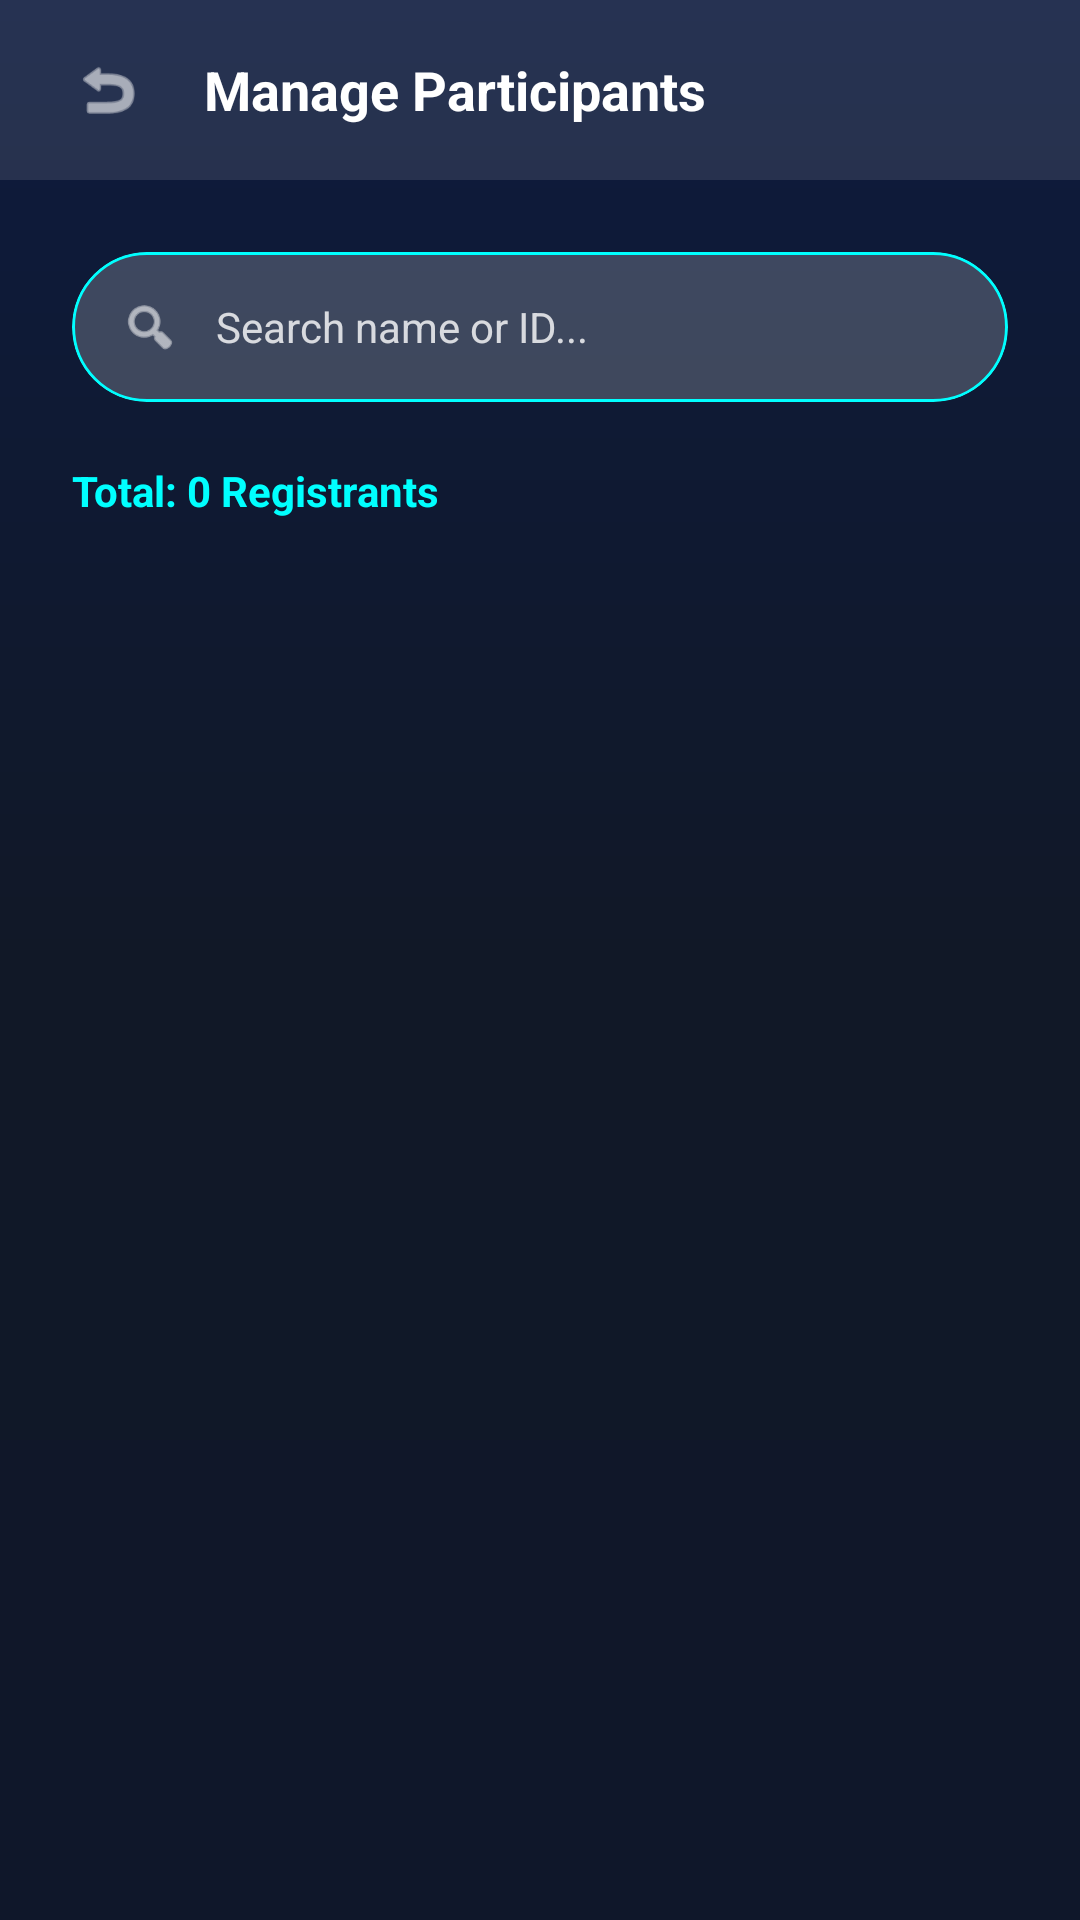

Locate icon controls on the screen. Image size 1080px x 1920px, boxes as (x1, y1, x2, y2).
revert: (83, 67, 135, 114)
